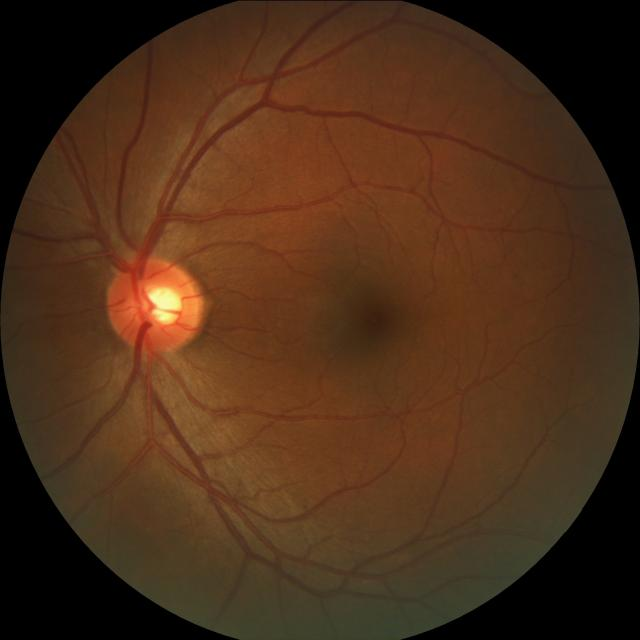OC: (146, 285, 182, 322)
OD: (106, 255, 201, 354)
